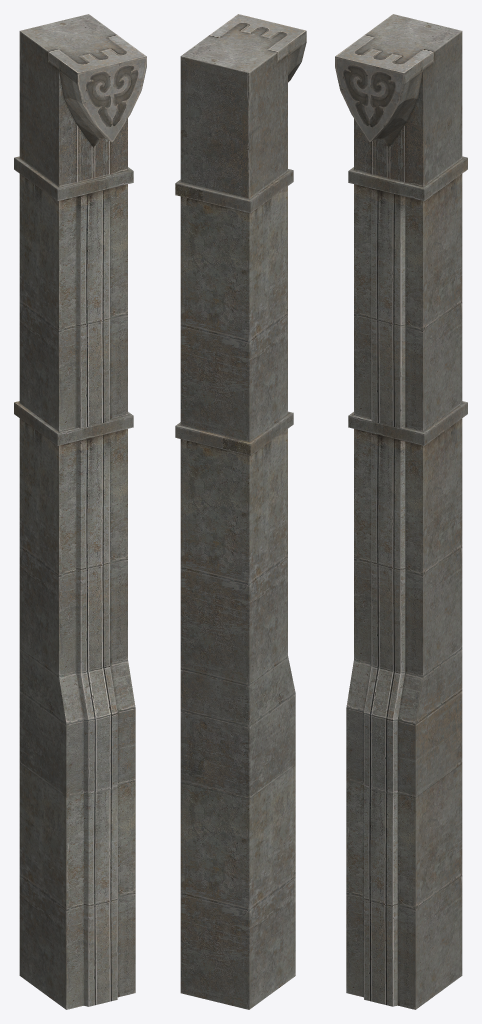
The model's file is bg_lut_lucastle_housepillar02_sm_sup.FBX.
3 renders of one model, left to right at view 1: azimuth 30°, elevation 25°; view 2: azimuth 150°, elevation 25°; view 3: azimuth 330°, elevation 25°, orthographic.
Parts seen in each view (by area): view 1: bg_lut_lucastle_housepillar02_sm_sup; view 2: bg_lut_lucastle_housepillar02_sm_sup; view 3: bg_lut_lucastle_housepillar02_sm_sup.
Boxes of the visible parts, x1,y1,x2,y2 form: bg_lut_lucastle_housepillar02_sm_sup: (14, 14, 146, 1009); bg_lut_lucastle_housepillar02_sm_sup: (175, 14, 306, 1009); bg_lut_lucastle_housepillar02_sm_sup: (335, 14, 467, 1009).
Bounding box in the file's own units: 33.64 × 400 × 46.16.
